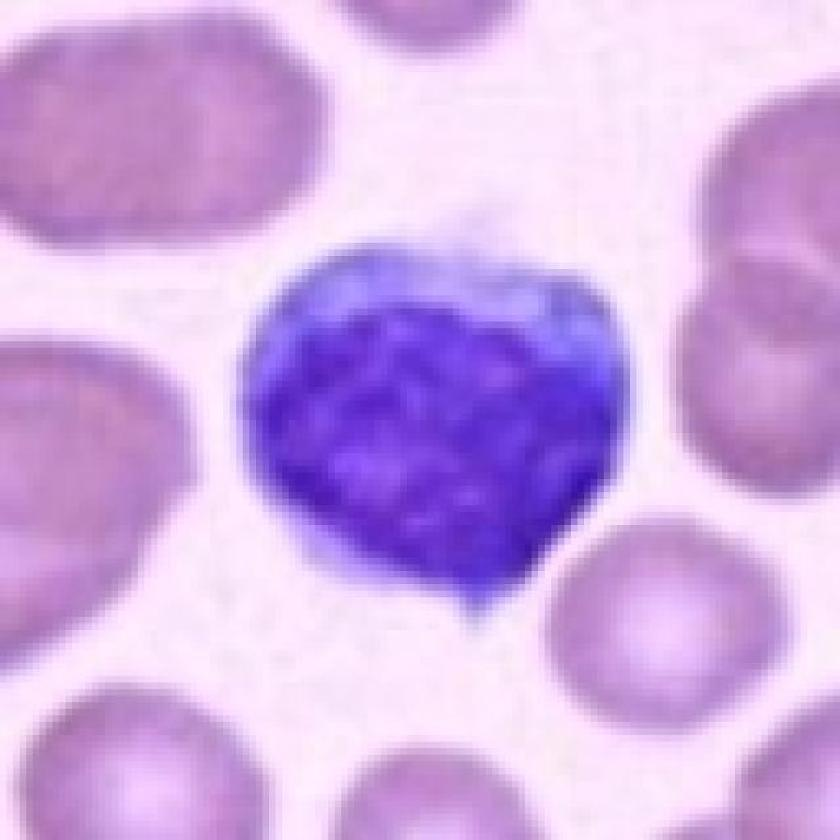lymphocyte: (221, 227, 646, 623)
